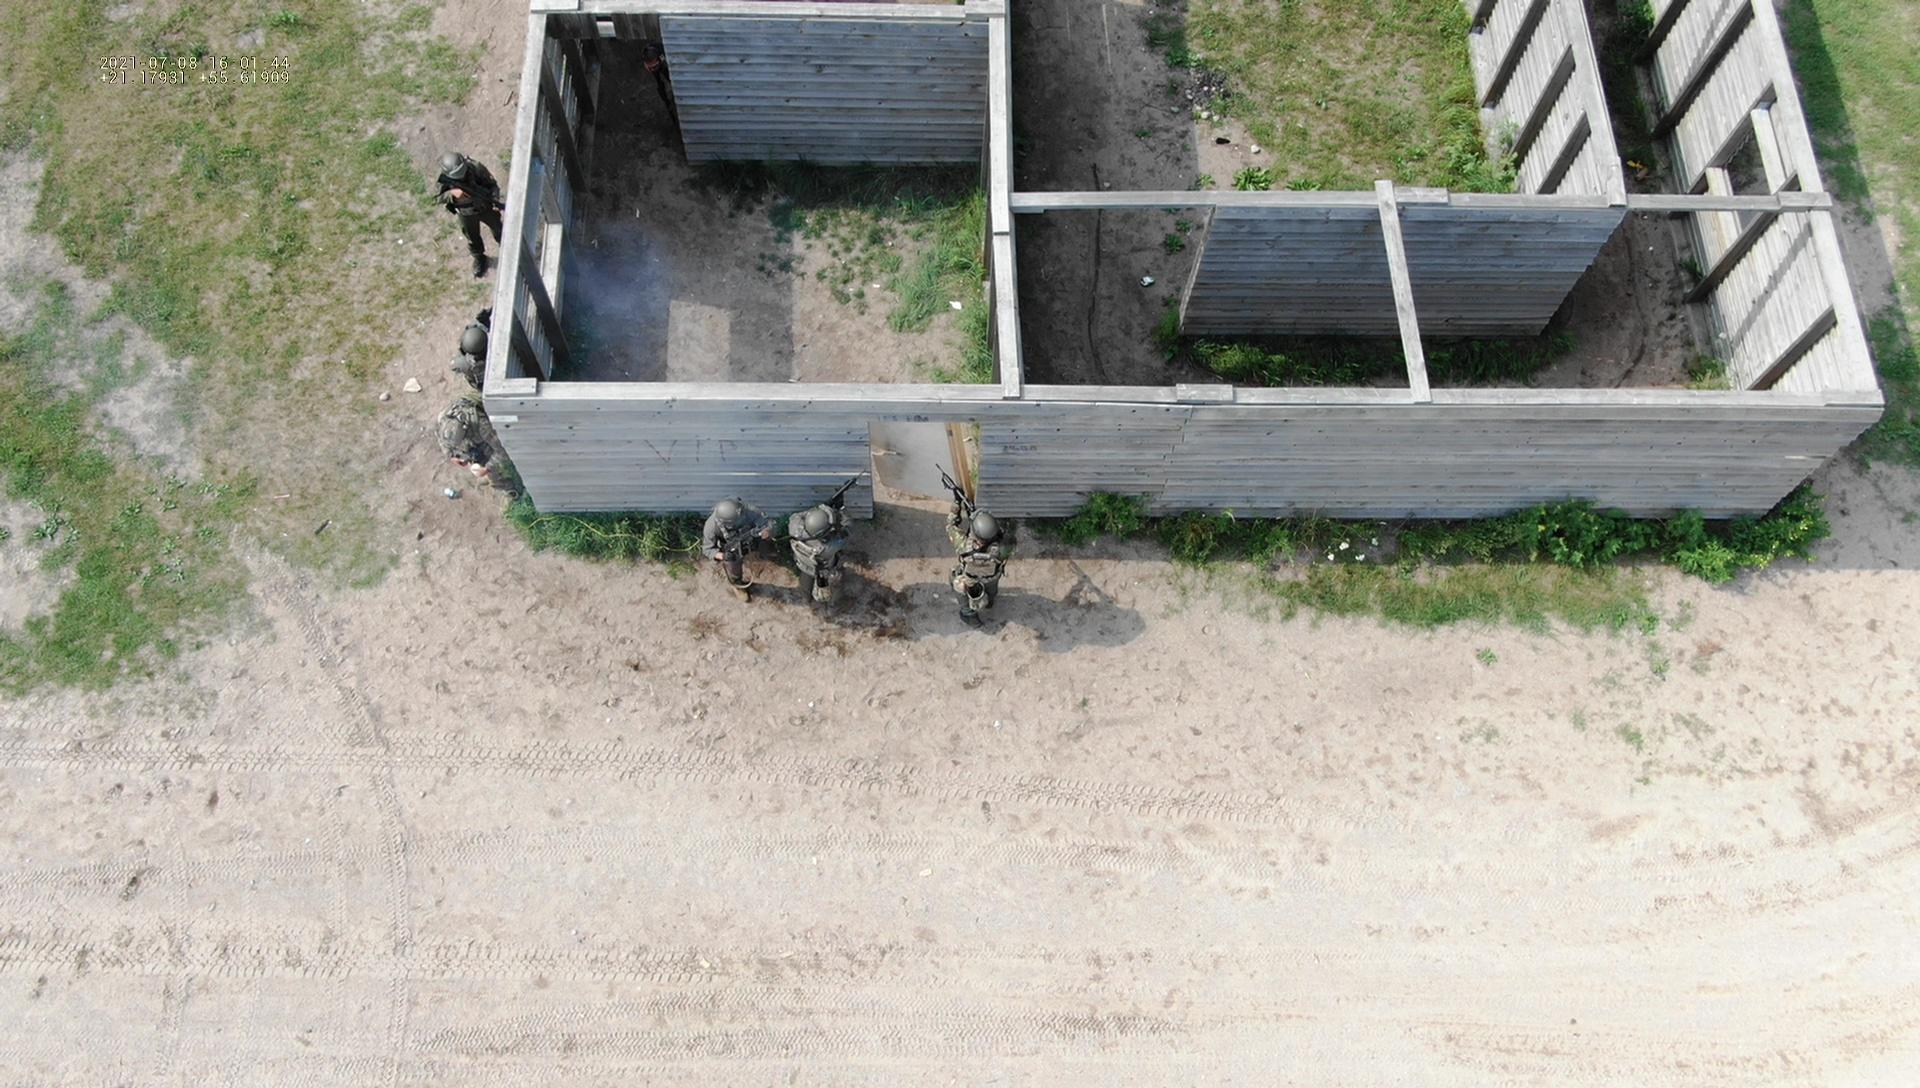Soldier: (924, 463, 1033, 630), (781, 472, 880, 625), (442, 361, 543, 506), (429, 124, 512, 273), (709, 477, 800, 597), (452, 320, 495, 378)
